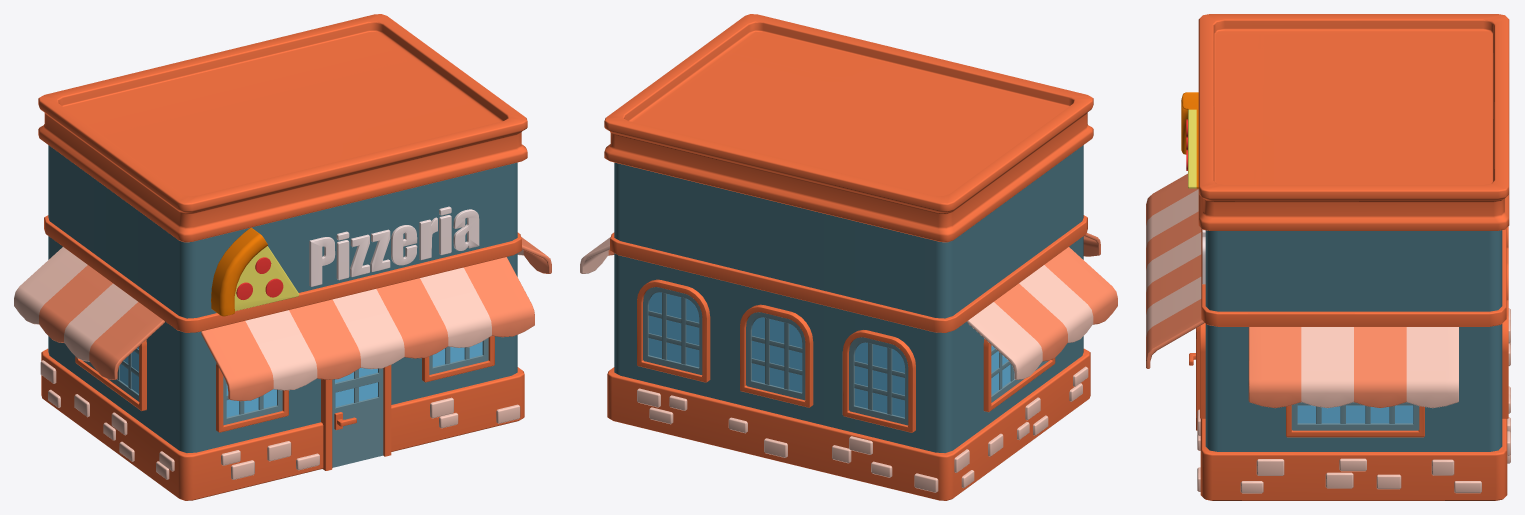
The model's file is Store_1_Pizzeria_1.glb.
3 renders of one model, left to right at view 1: azimuth 30°, elevation 25°; view 2: azimuth 150°, elevation 25°; view 3: azimuth 270°, elevation 25°, orthographic. The views are drawn at different scales.
Parts seen in each view (by area): view 1: Store_1_Pizzeria_1; view 2: Store_1_Pizzeria_1; view 3: Store_1_Pizzeria_1.
Boxes of the visible parts, bbox=[...] form: Store_1_Pizzeria_1: bbox=[14, 14, 551, 500]; Store_1_Pizzeria_1: bbox=[580, 14, 1117, 500]; Store_1_Pizzeria_1: bbox=[1146, 14, 1510, 500].
Bounding box in the file's own units: 11.35 × 7.41 × 7.86.
1 material, 1 textured.
